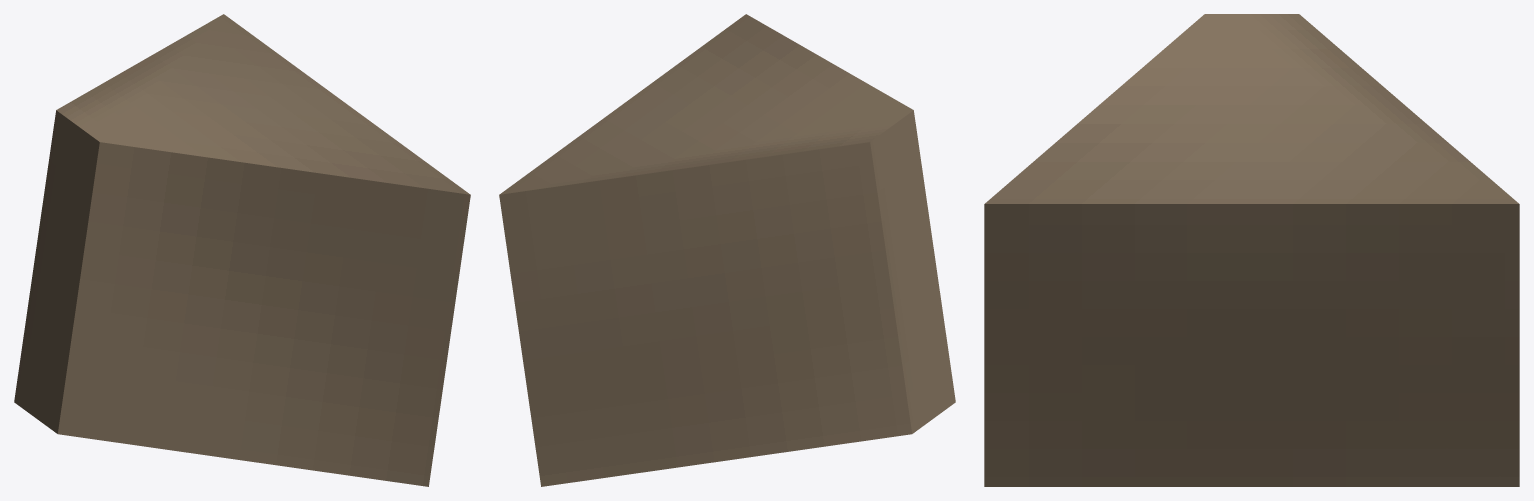
Rendered from aimbutton.glb.
3 views of the same model, side by side, from view 1: azimuth 30°, elevation 25°; view 2: azimuth 150°, elevation 25°; view 3: azimuth 270°, elevation 25° (orthographic). The views are drawn at different scales.
Parts seen in each view (by area): view 1: Cube.007; view 2: Cube.007; view 3: Cube.007.
Part boxes in pixels (box(x1,y1,x2,y2)): Cube.007: box(14, 14, 470, 486); Cube.007: box(499, 14, 955, 486); Cube.007: box(984, 14, 1519, 486).
Bounding box in the file's own units: 0.1518 × 0.1518 × 0.2086.
Materials: 1 (1 with a texture image).
